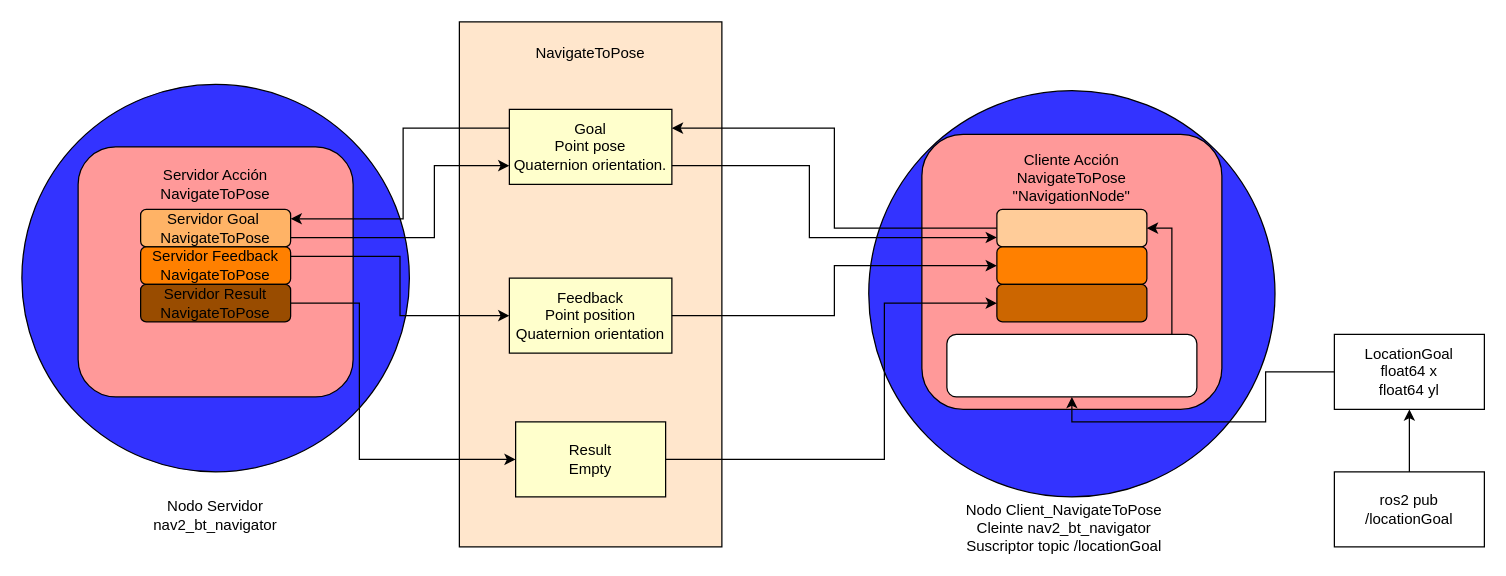
The diagram is 1506 pixels wide and 576 high, and some of its shapes have lost their labels. The shapes that lost their labels are listed below. From the top down, each one's centre as x and y in pixels, then its label:
(1071,227): Cliente Goal NavigateToPose
(1071,265): Cliente Feedback NavigateToPose
(1071,302): Cliente Result Mover NavigateToPose
(1071,365): Suscriptor Topic /locationGoal "SimpleSuscriber
